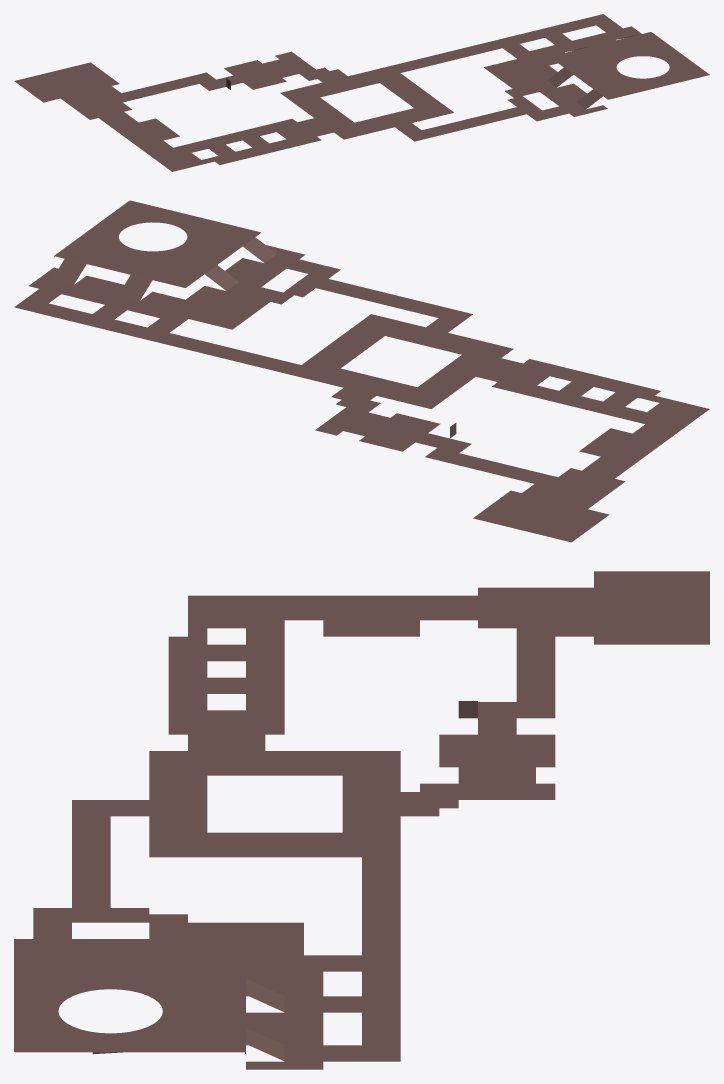
Rendered from GB_Ground.fbx.
The picture shows the model from 3 angles, top to bottom: view 1: azimuth 30°, elevation 25°; view 2: azimuth 150°, elevation 25°; view 3: azimuth 270°, elevation 25°; orthographic projection. The views are drawn at different scales.
Parts seen in each view (by area): view 1: Platform.004; view 2: Platform.004; view 3: Platform.004.
Boxes of the visible parts, <box> form: Platform.004: <box>14,14,709,171</box>; Platform.004: <box>14,200,709,542</box>; Platform.004: <box>14,571,709,1069</box>.
Size of the model in its own units: 18300 by 300 by 10800.
